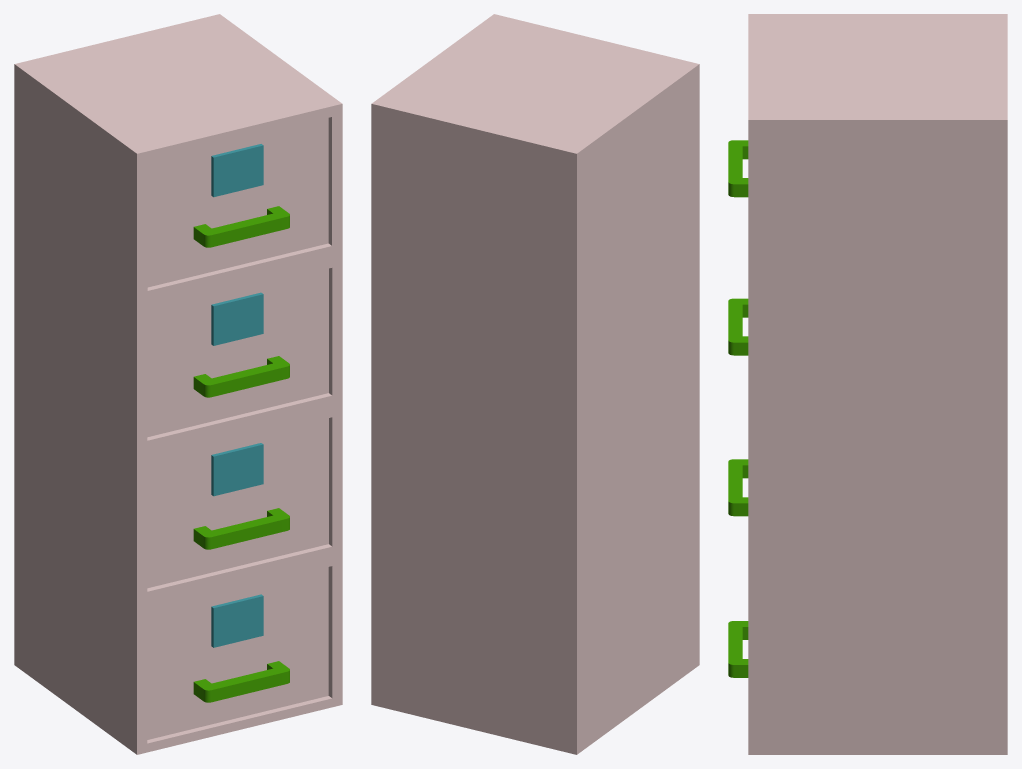
Rendered from Cabinet2.fbx.
3 views of the same model, side by side, from view 1: azimuth 30°, elevation 25°; view 2: azimuth 150°, elevation 25°; view 3: azimuth 270°, elevation 25° (orthographic). The views are drawn at different scales.
Parts seen in each view (by area): view 1: pCube225; view 2: pCube225; view 3: pCube225.
Boxes of the visible parts, left/top/right/bottom form: pCube225: left=14, top=14, right=342, bottom=754; pCube225: left=371, top=14, right=699, bottom=754; pCube225: left=728, top=14, right=1007, bottom=754.
Size of the model in its own units: 2.16 by 6.03 by 2.4.
